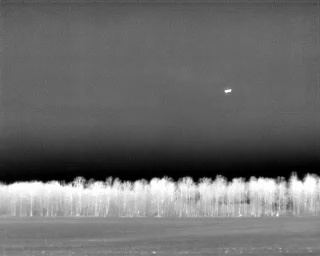DRONE: (221, 85, 235, 97)
